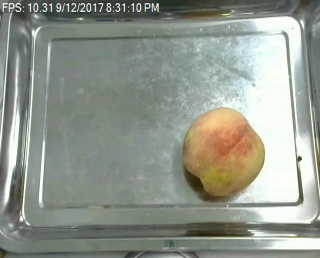Peach: (182, 106, 266, 197)
